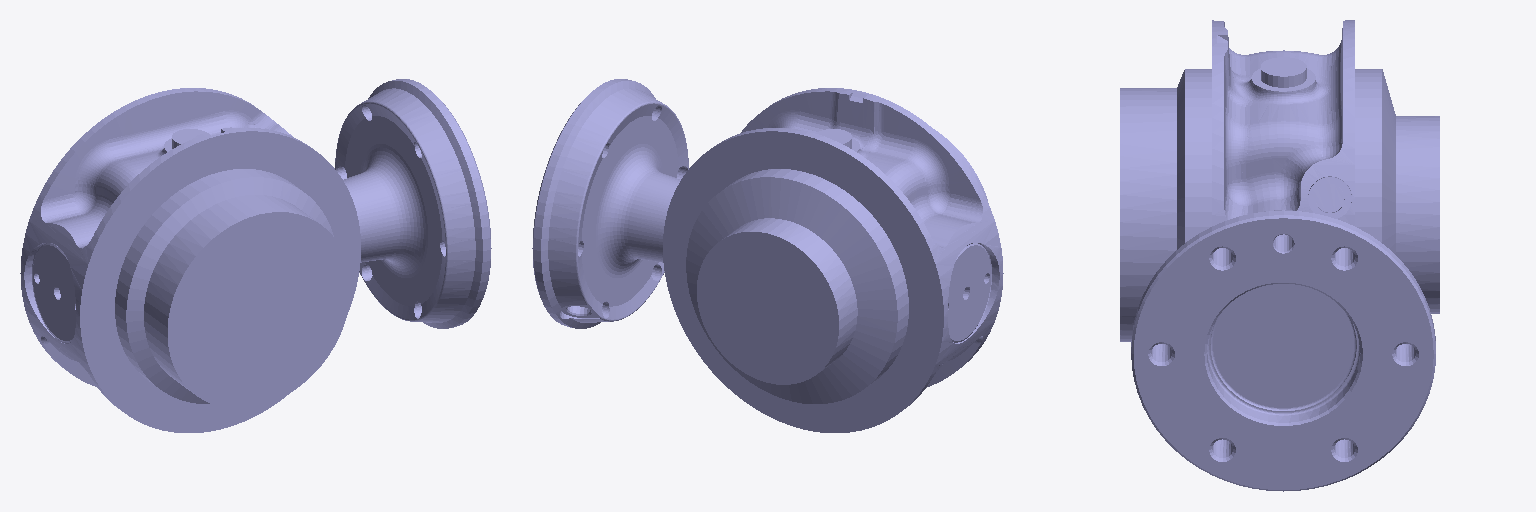
URDF robot description (irb4600):
<robot name="irb4600" xmlns:xacro="http://www.ros.org/wiki/xacro">
    <link name="base_link">
      <collision name="collision">
        <geometry>
          <mesh filename="meshes/IRB4600_40kg-255_IRC5_rev04_Base.obj"/>
        </geometry>
      </collision>
      <visual name="visual">
        <origin xyz="0.0 0.0 0.0" rpy="0.0 0.0 0.0" />
        <geometry>
          <mesh filename="meshes/IRB4600_40kg-255_IRC5_rev04_Base.obj" scale="0.001"/>
        </geometry>
        <material name="grey">
          <color rgba="0.7 0.7 0.9 1.0"/>
        </material>
      </visual>
    </link>

    <link name="link_1">
      <collision name="collision">
        <geometry>
          <mesh filename="meshes/IRB4600_40kg-255_IRC5_rev04_Link1.obj"/>
        </geometry>
      </collision>
      <visual name="visual">
        <origin xyz="0.0 0 -0.190" rpy="0.0 0.0 0.0" />
        <geometry>
          <mesh filename="meshes/IRB4600_40kg-255_IRC5_rev04_Link1.obj" scale="0.001"/>
        </geometry>
        <material name="grey">
          <color rgba="0.7 0.7 0.9 1.0"/>
        </material>      </visual>
    </link>

    <link name="link_2">
      <collision name="collision">
        <geometry>
          <mesh filename="meshes/IRB4600_40kg-255_IRC5_rev04_Link2.obj"/>
        </geometry>
      </collision>
      <visual name="visual">
        <origin xyz="-0.175 0 -0.495" rpy="0.0 0.0 0.0" />
        <geometry>
          <mesh filename="meshes/IRB4600_40kg-255_IRC5_rev04_Link2.obj" scale="0.001"/>
        </geometry>
        <material name="grey">
          <color rgba="0.7 0.7 0.9 1.0"/>
        </material>
      </visual>
    </link>

    <link name="link_3">
      <collision name="collision">
        <geometry>
          <mesh filename="meshes/IRB4600_40kg-255_IRC5_rev04_Link3.obj"/>
        </geometry>
      </collision>
      <visual name="visual">
        <origin xyz="-0.175 0 -1.590" rpy="0.0 0.0 0.0" />
        <geometry>
          <mesh filename="meshes/IRB4600_40kg-255_IRC5_rev04_Link3.obj" scale="0.001"/>
        </geometry>
        <material name="grey">
          <color rgba="0.7 0.7 0.9 1.0"/>
        </material>
      </visual>
    </link>

    <link name="link_4">
      <collision name="collision">
        <geometry>
          <mesh filename="meshes/IRB4600_40kg-255_IRC5_rev04_Link4.obj"/>
        </geometry>
      </collision>
      <visual name="visual">
        <origin xyz="-0.515 0 -1.765" rpy="0.0 0.0 0.0" />
        <geometry>
          <mesh filename="meshes/IRB4600_40kg-255_IRC5_rev04_Link4.obj" scale="0.001"/>
        </geometry>
        <material name="grey">
          <color rgba="0.7 0.7 0.9 1.0"/>
        </material>
      </visual>
    </link>

    <link name="link_5">
      <collision name="collision">
        <geometry>
          <mesh filename="meshes/IRB4600_40kg-255_IRC5_rev04_Link5.obj"/>
        </geometry>
      </collision>
      <visual name="visual">
        <origin xyz="-1.445 0 -1.765" rpy="0.0 0.0 0.0" />
        <geometry>
          <mesh filename="meshes/IRB4600_40kg-255_IRC5_rev04_Link5.obj" scale="0.001"/>
        </geometry>
        <material name="grey">
          <color rgba="0.7 0.7 0.9 1.0"/>
        </material>
      </visual>
    </link>

    <link name="link_6">
      <collision name="collision">
        <geometry>
          <mesh filename="meshes/IRB4600_40kg-255_IRC5_rev04_Link6.obj"/>
        </geometry>
      </collision>
      <visual name="visual">
        <origin xyz="-1.51 0 -1.765" rpy="0.0 0.0 0.0" />
        <geometry>
          <mesh filename="meshes/IRB4600_40kg-255_IRC5_rev04_Link6.obj" scale="0.001"/>
        </geometry>
        <material name="grey">
          <color rgba="0.7 0.7 0.9 1.0"/>
        </material>
      </visual>
    </link>

    <joint type="revolute" name="joint_1">
      <origin xyz="0 0 0.190" rpy="0 0 0"/>
      <axis xyz="0 0 1"/>
      <parent link="base_link"/>
      <child link="link_1"/>
      <limit effort="0" lower="-3.14159" upper="3.14159" velocity="3.05433"/>
    </joint>

    <joint type="revolute" name="joint_2">
      <origin xyz="0.175 0 0.305" rpy="0 0 0"/>
      <axis xyz="0 -1 0"/>
      <parent link="link_1"/>
      <child link="link_2"/>
      <limit effort="0" lower="-1.5708" upper="2.61799" velocity="3.05433"/>
    </joint>

    <joint type="revolute" name="joint_3">
      <origin xyz="0 0 1.095" rpy="0 0 0"/>
      <axis xyz="0 -1 0"/>
      <parent link="link_2"/>
      <child link="link_3"/>
      <limit effort="0" lower="-3.14159" upper="1.309" velocity="3.05433"/>
    </joint>

    <joint type="revolute" name="joint_4">
      <origin xyz="0.34 0 0.175" rpy="0 0 0"/>
      <axis xyz="1 0 0"/>
      <parent link="link_3"/>
      <child link="link_4"/>
      <limit effort="0" lower="-6.98132" upper="6.98132" velocity="4.36332"/>
    </joint>

    <joint type="revolute" name="joint_5">
      <origin xyz="0.93 0 0" rpy="0 0 0"/>
      <axis xyz="0 -1 0"/>
      <parent link="link_4"/>
      <child link="link_5"/>
      <limit effort="0" lower="-2.18166" upper="2.0944" velocity="4.36332"/>
    </joint>

    <joint type="revolute" name="joint_6">
      <origin xyz="0.065 0 0" rpy="0 0 0"/>
      <axis xyz="1 0 0"/>
      <parent link="link_5"/>
      <child link="link_6"/>
      <limit effort="0" lower="-1.5708" upper="1.5708" velocity="6.28319"/>
    </joint>
</robot>

--- Facts derived from the render (not from the file) ---
The picture shows the robot from 3 angles, left to right: view 1: azimuth 30°, elevation 25°; view 2: azimuth 150°, elevation 25°; view 3: azimuth 270°, elevation 25°; orthographic projection.
Model irb4600 with 7 links and 6 joints (6 revolute), rooted at base_link, posed every joint at zero.
Visible links, largest first — view 1: link_5, link_6; view 2: link_5, link_6; view 3: link_6, link_5.
Link boxes in pixels (bbox=[...]): link_5: bbox=[20, 88, 360, 432]; link_6: bbox=[335, 79, 491, 328]; link_5: bbox=[663, 88, 1003, 432]; link_6: bbox=[532, 79, 688, 328]; link_6: bbox=[1131, 210, 1435, 491]; link_5: bbox=[1120, 20, 1439, 341].
Bounding box of the posed robot: 0.2148 × 0.131 × 0.1595 m (x, y, z).
2 mesh visuals loaded from 7 distinct referenced files (2 OBJ); not drawn: 5 (reference not matched to a file when rendering).